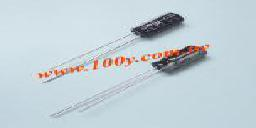Electrolytic-Capacitor: (111, 8, 185, 40)
